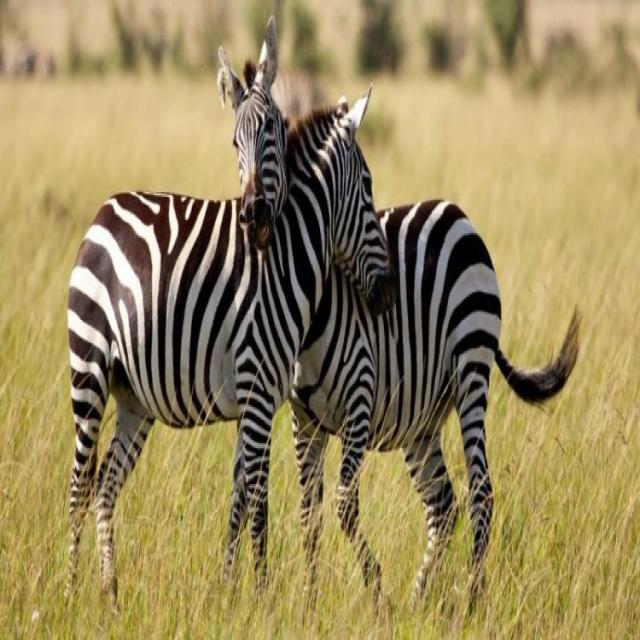Herbivorous: (67, 95, 392, 602), (290, 200, 580, 610), (218, 16, 288, 251)
